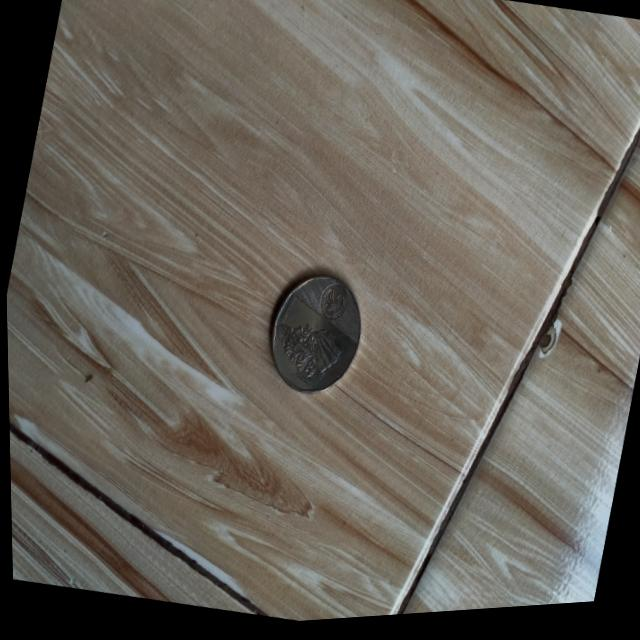10_New_Back: (258, 312, 357, 409)
